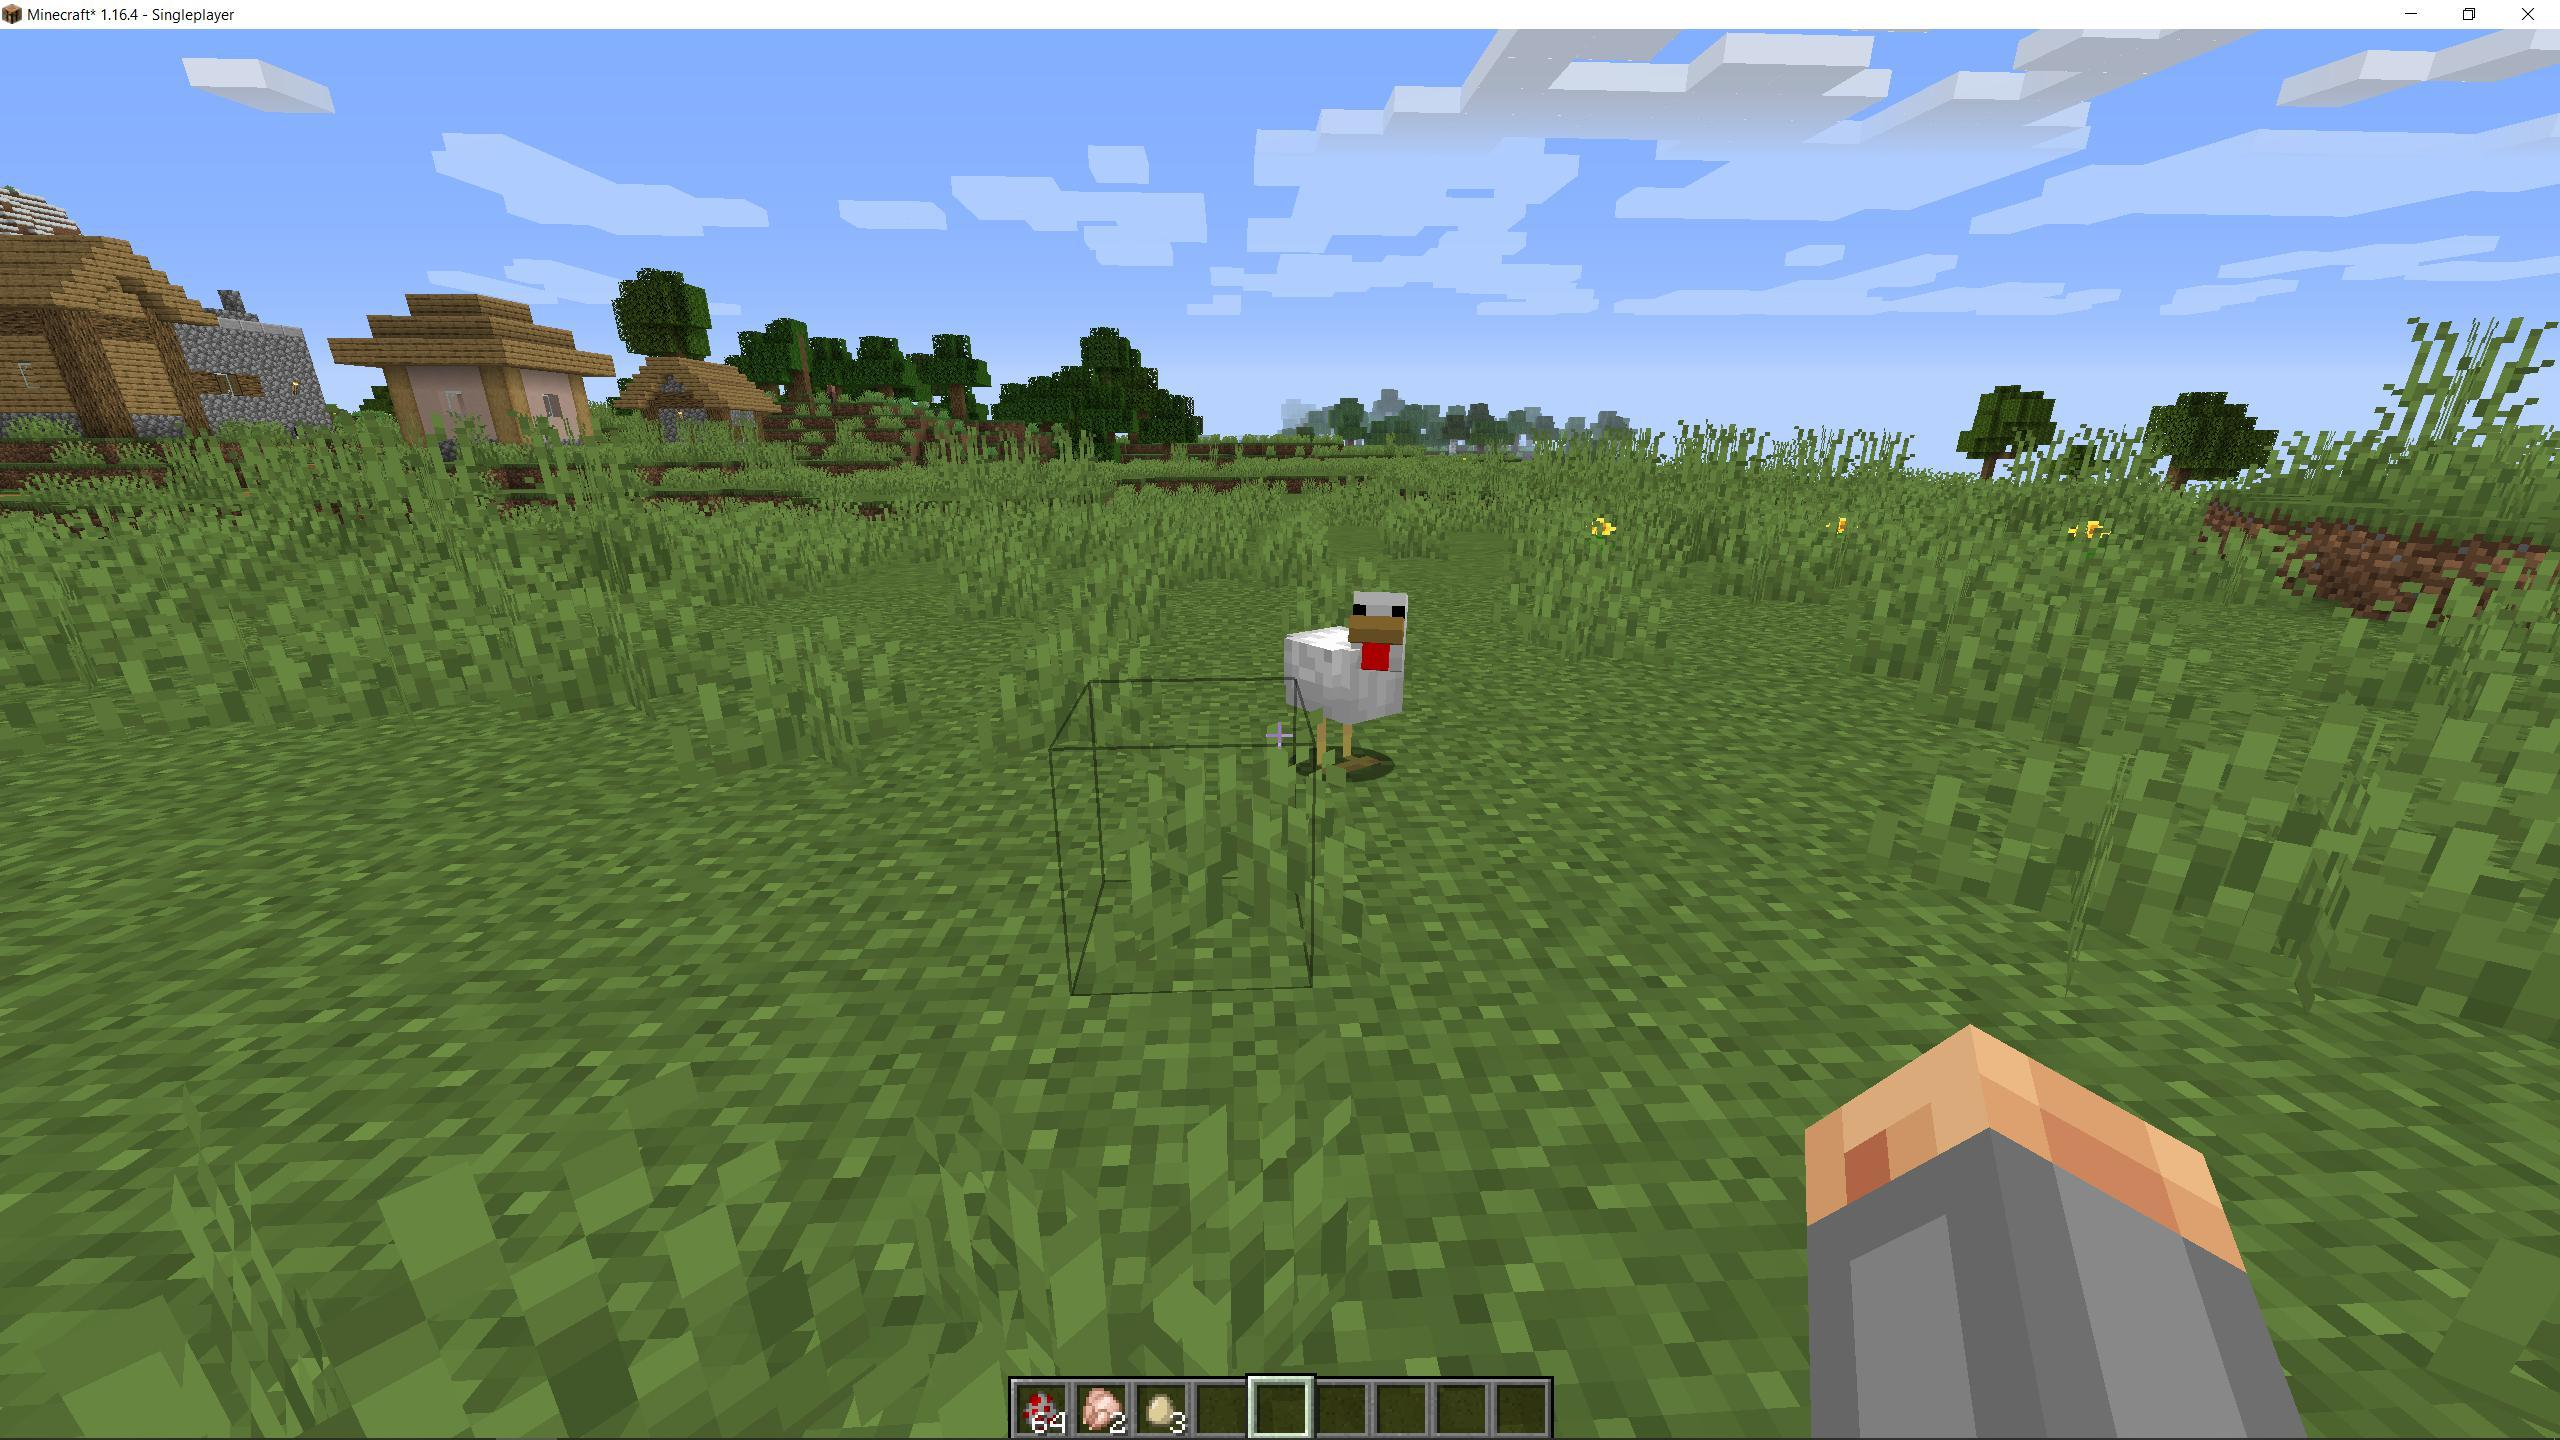chicken: (1264, 570, 1415, 804)
